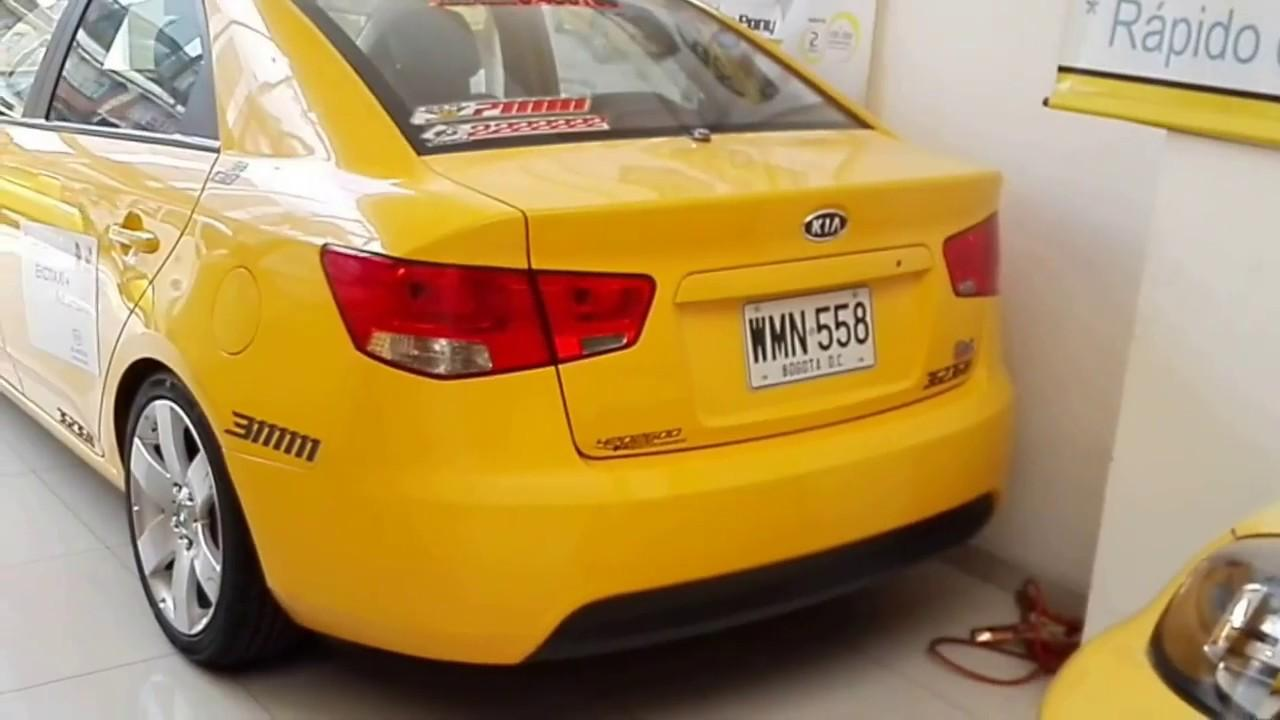taxi: (1, 21, 1002, 720)
